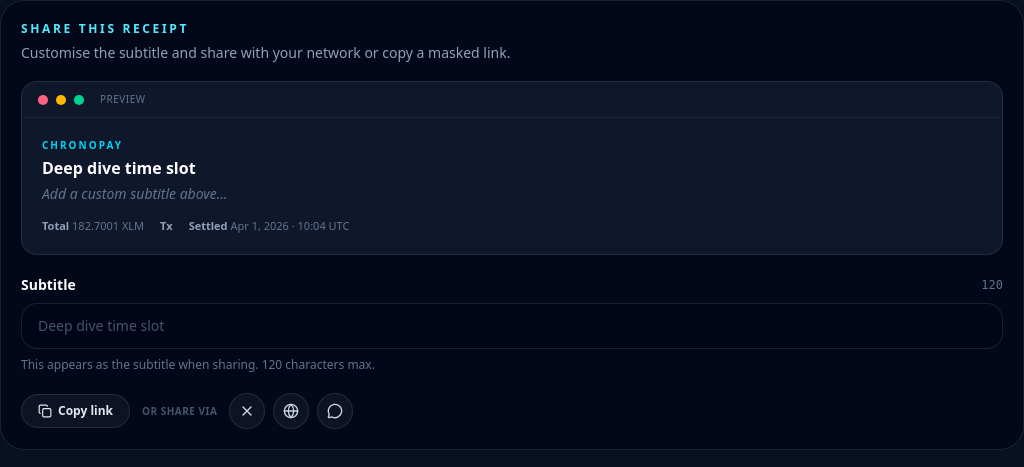
Scenario: SharePreview › persists subtitle to localStorage
In the field labelled "Subtitle": (512, 326) top-left (21, 303), bottom-right (1003, 349), type "Persisted subtitle"
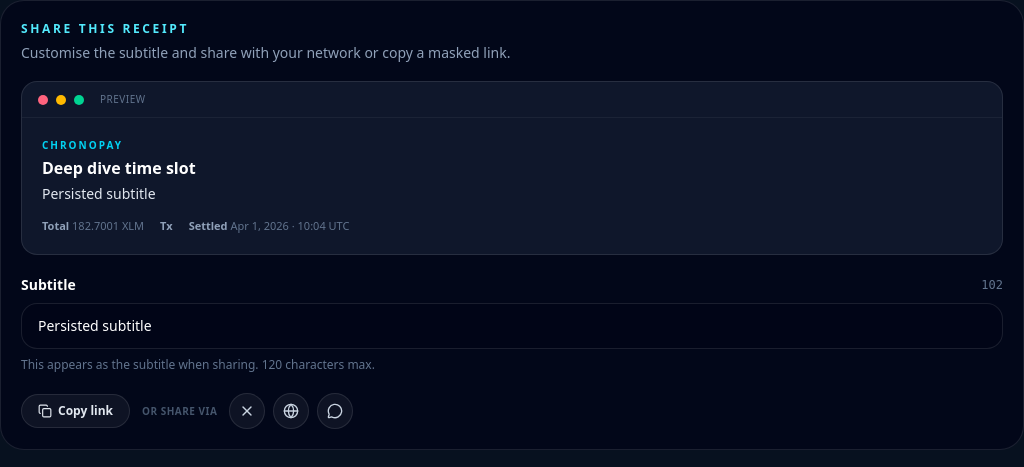
Expected: the text "Persisted subtitle" is shown, top-left (42, 184), bottom-right (156, 203)
